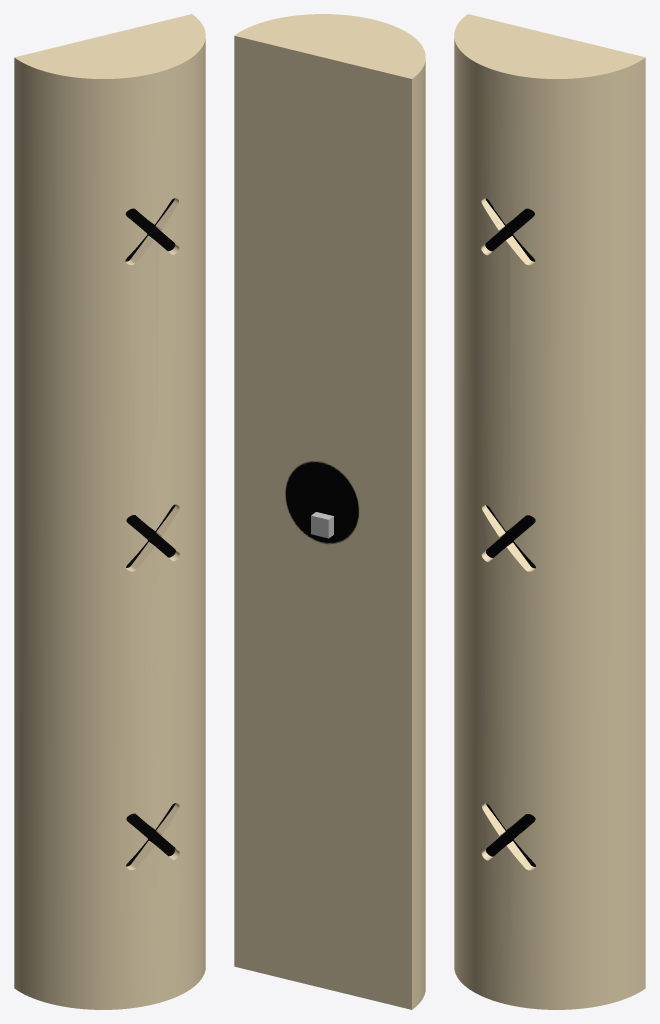
Rendered from yut_textured.obj.
3 renders of one model, left to right at view 1: azimuth 30°, elevation 25°; view 2: azimuth 150°, elevation 25°; view 3: azimuth 330°, elevation 25°, orthographic.
Visible parts, largest first — view 1: Default; view 2: Default, Cube; view 3: Default.
Boxes of the visible parts, x1=… form: Default: x1=14, y1=14, x2=205, y2=1009; Default: x1=234, y1=14, x2=425, y2=1009; Cube: x1=311, y1=512, x2=333, y2=538; Default: x1=454, y1=14, x2=645, y2=1009.
Bounding box in the file's own units: 20 × 100 × 11.
2 materials, 1 textured.
